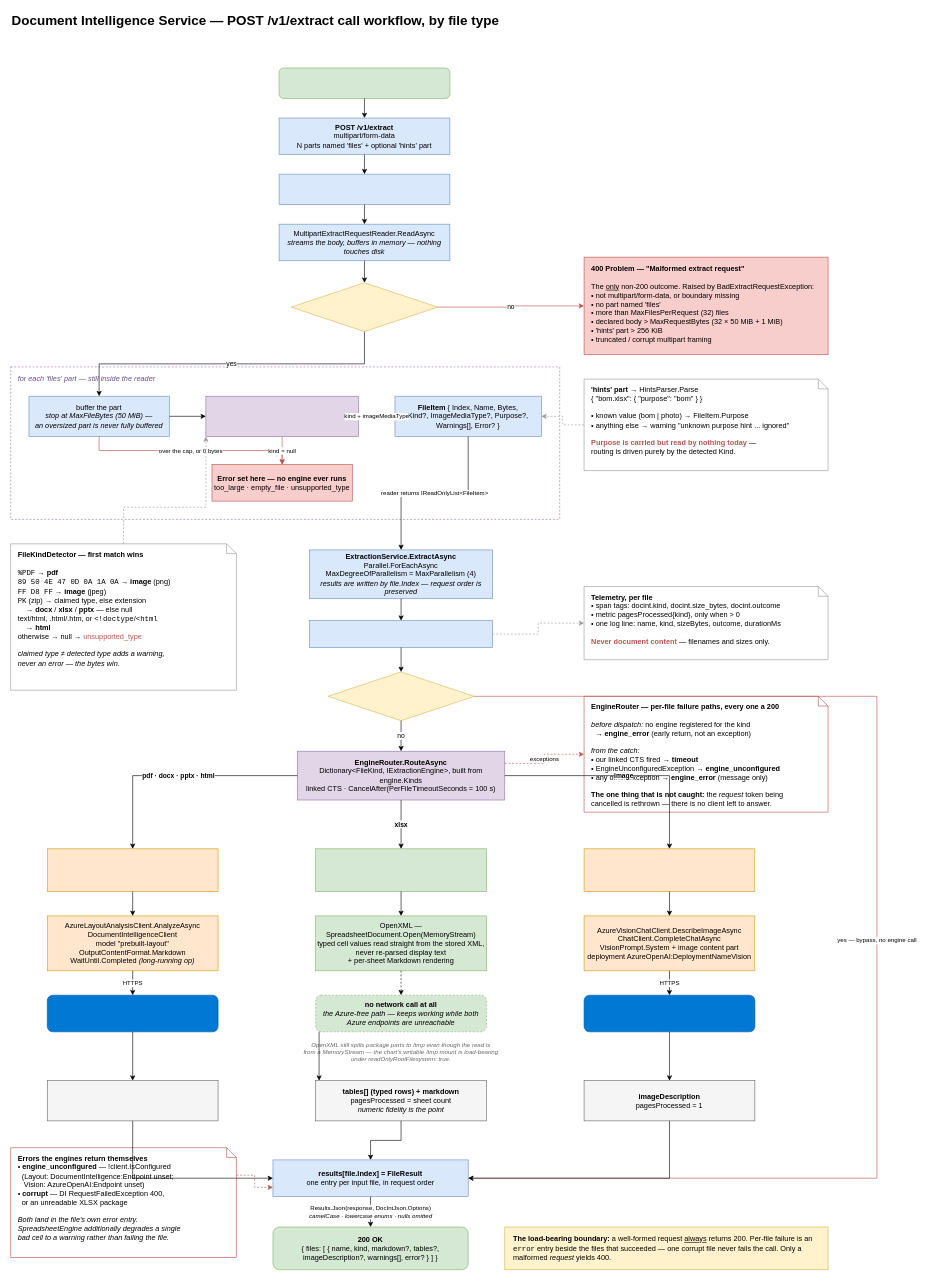
The diagram is 927 pixels wide and 1280 high, and some of its shapes have lost their labels. The shapes that lost their labels are listed below. From the top down, each one's centre as x and y in pixels, then its label:
(x=364, y=83): Calling service cluster-internal only, never via ingress
(x=364, y=189): ExtractEndpoint.Handle
(x=364, y=307): request itself well-formed?
(x=281, y=416): FileKindDetector.Detect magic bytes → claimed content-type → extension
(x=401, y=634): per file: Activity "docint.extract_file"
(x=400, y=696): file.Error already set by the reader?
(x=132, y=870): LayoutEngine Kinds: pdf · docx · pptx · html four kinds, one engine, one call
(x=400, y=870): SpreadsheetEngine Kinds: xlsx synchronous — Task.FromResult
(x=669, y=870): VisionEngine Kinds: image (png / jpeg) factual observations only
(x=132, y=1013): Azure AI Document Intelligence EU region · private endpoint
(x=669, y=1013): Azure OpenAI — Foundry utility model EU region · private endpoint
(x=132, y=1100): markdown pagesProcessed = page count + service warnings
